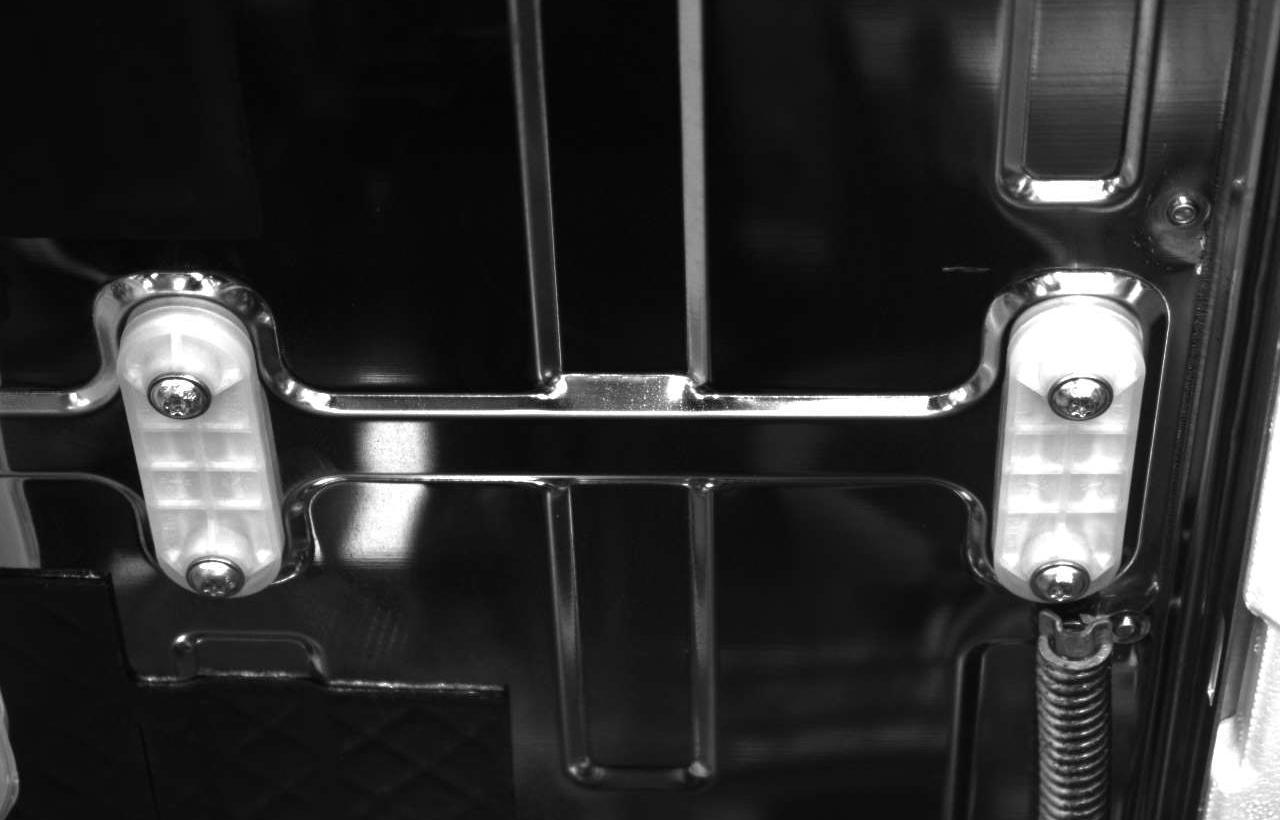vida-ok: (147, 361, 219, 428), (1053, 361, 1120, 428), (184, 545, 250, 604), (1029, 548, 1094, 607)
